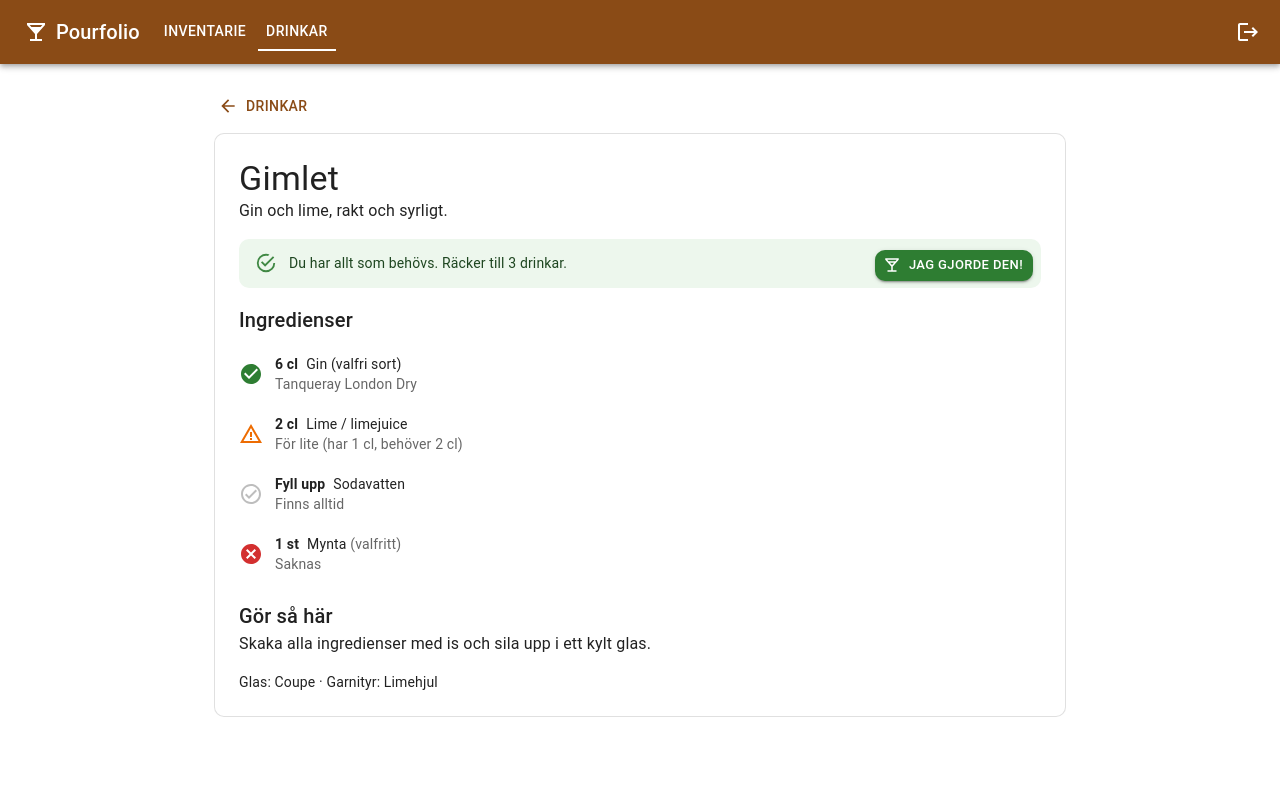
Scenario: Jag gjorde den! › plans for several drinks
What coordinates should you click on to do the following:
click the button "Jag gjorde den!"
I would click on:
 (954, 266)
Its box is 875,250 -> 1033,281.
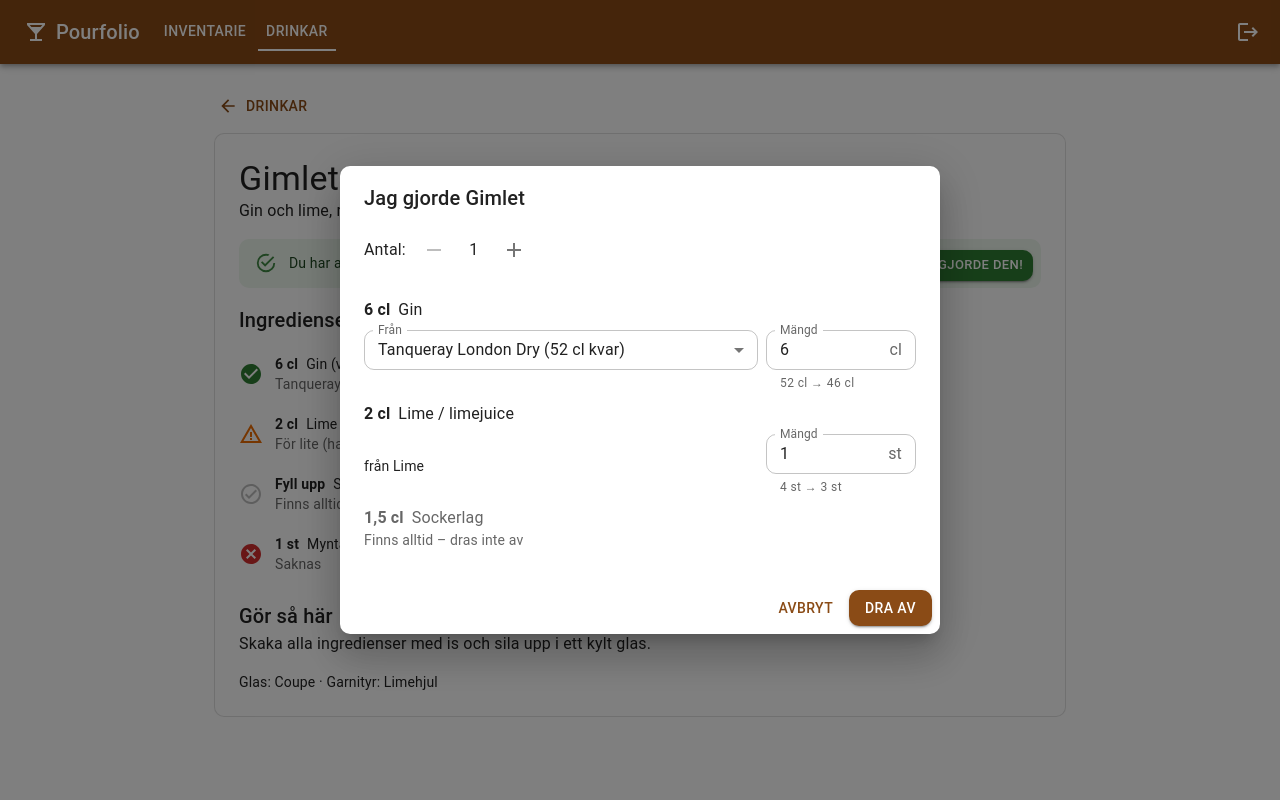
Expected: the list named "Det här dras av" is shown, 364,286 -> 916,562
What coordinates should you click on to do the following:
click the button named "Fler"
I would click on:
 (514, 250)
Its box is 494,230 -> 534,270.
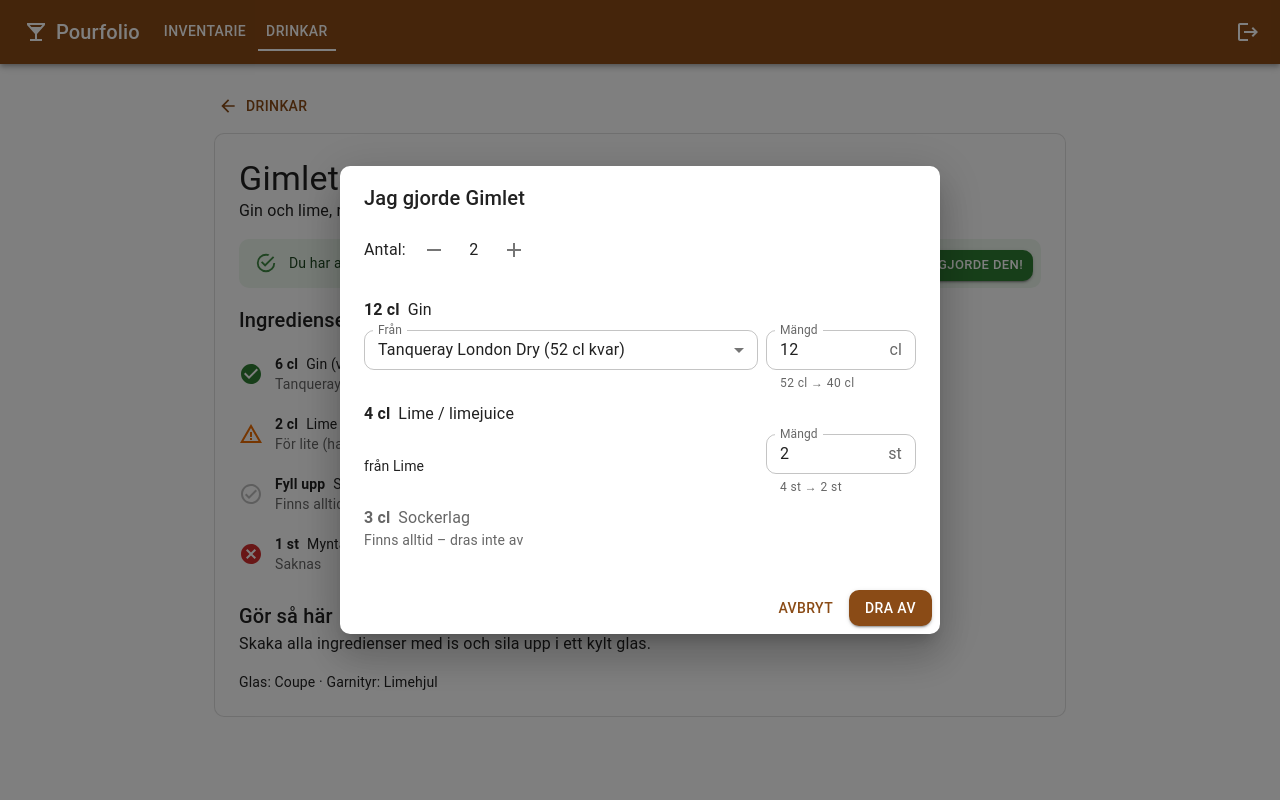
Expected: the text named "Antal drinkar" reads "2", 469,240 -> 478,259
Expected: the 1st field labelled "Mängd" holds "12", 766,330 -> 881,370
What coordinates should you click on to do the following:
click the button "Dra av"
I would click on:
 (890, 608)
Its box is 849,590 -> 932,626.
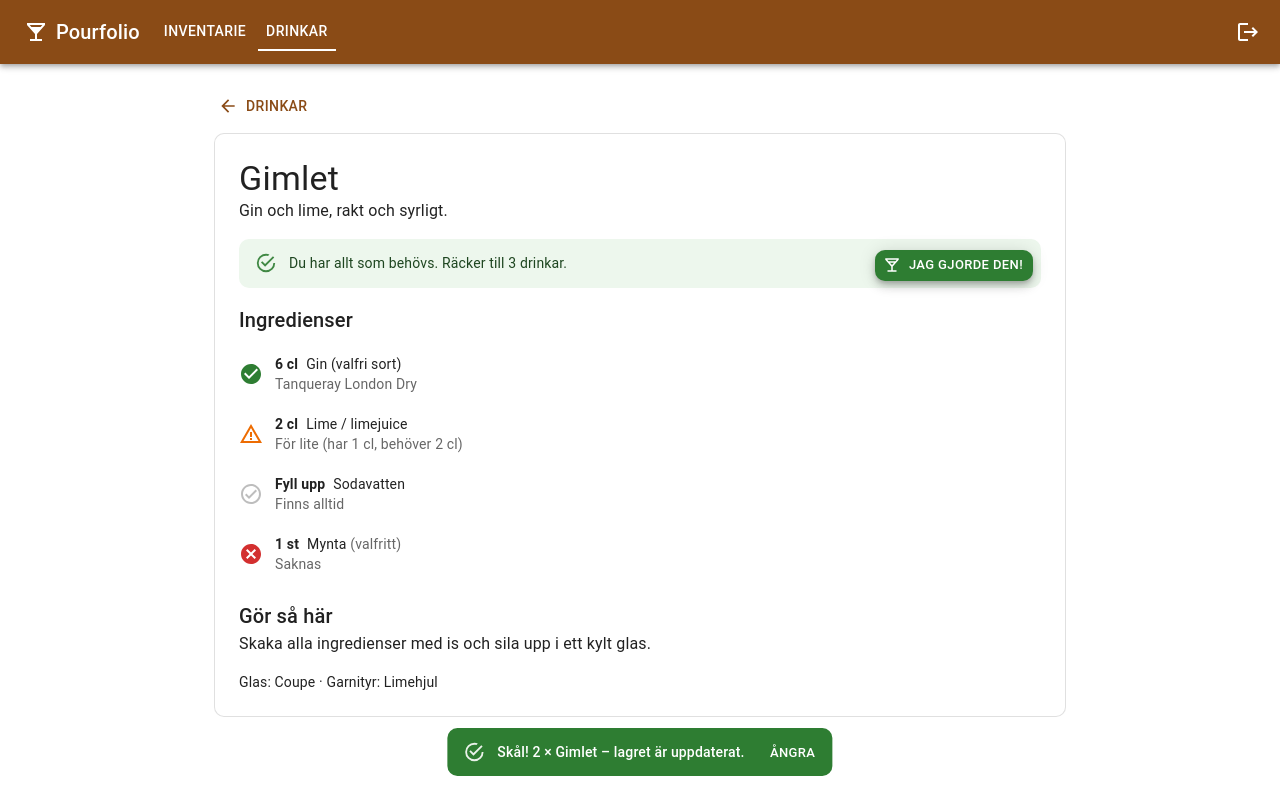
Expected: the text "Skål! 2 × Gimlet – lagret är uppdaterat." is shown, 497,744 -> 745,760
